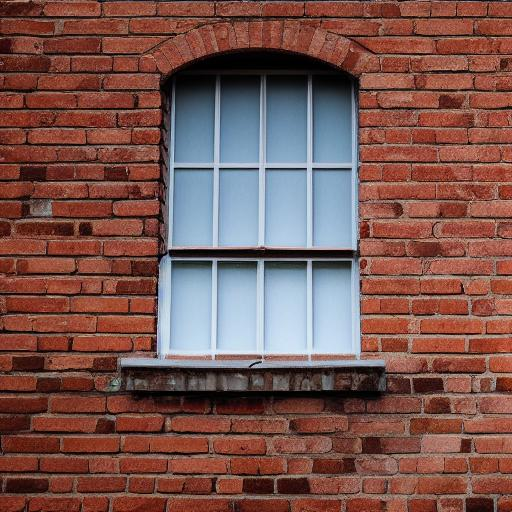Window: (110, 20, 391, 398)
